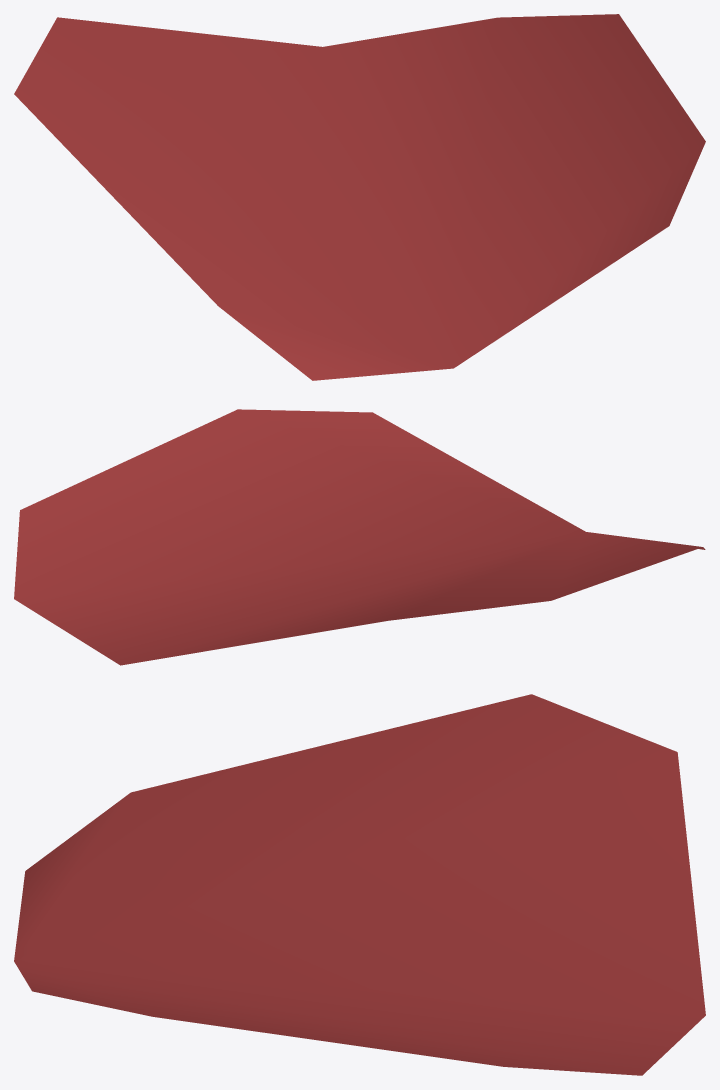
File: long-plantar-ligament-o3r.glb
3 views of the same model, one above another, from view 1: azimuth 30°, elevation 25°; view 2: azimuth 150°, elevation 25°; view 3: azimuth 270°, elevation 25° (orthographic). The views are drawn at different scales.
Parts seen in each view (by area): view 1: Long plantar ligament.o3r; view 2: Long plantar ligament.o3r; view 3: Long plantar ligament.o3r.
Part boxes in pixels (box(x1,y1,x2,y2)): Long plantar ligament.o3r: box(14, 14, 705, 380); Long plantar ligament.o3r: box(14, 409, 705, 665); Long plantar ligament.o3r: box(14, 694, 705, 1075).
Size of the model in its own units: 0.00534 by 0.00129 by 0.00499.
